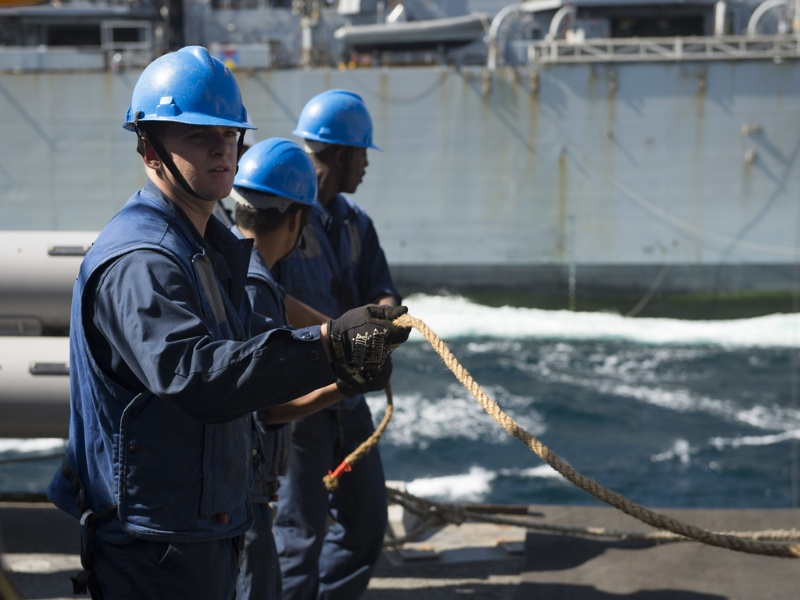helmet: (124, 42, 260, 130), (236, 134, 324, 208), (297, 86, 378, 145)
jacket: (82, 202, 248, 523), (302, 201, 373, 365)
